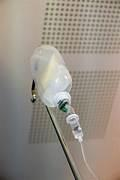Iv_Bottle: (31, 45, 71, 106)
